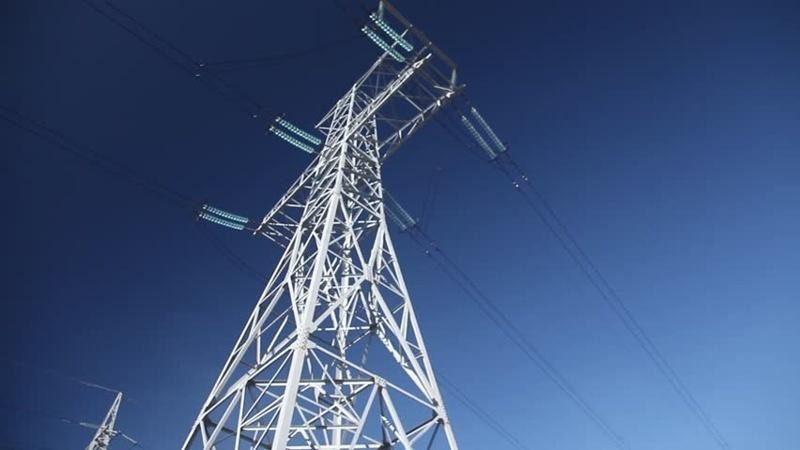power_tower: (174, 0, 514, 450), (61, 389, 142, 450)
